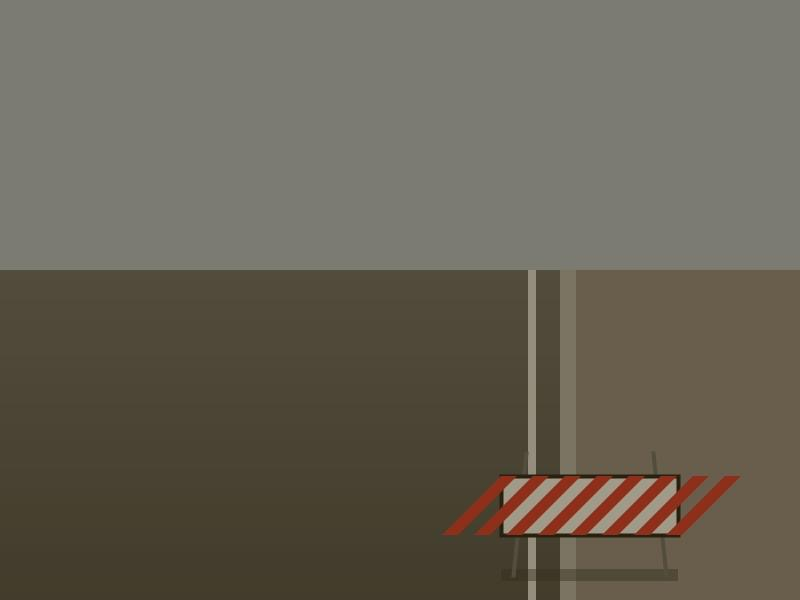ROAD_OBSTACLE: (501, 443, 678, 575)
